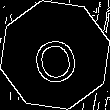O_N: (28, 25, 82, 85)
